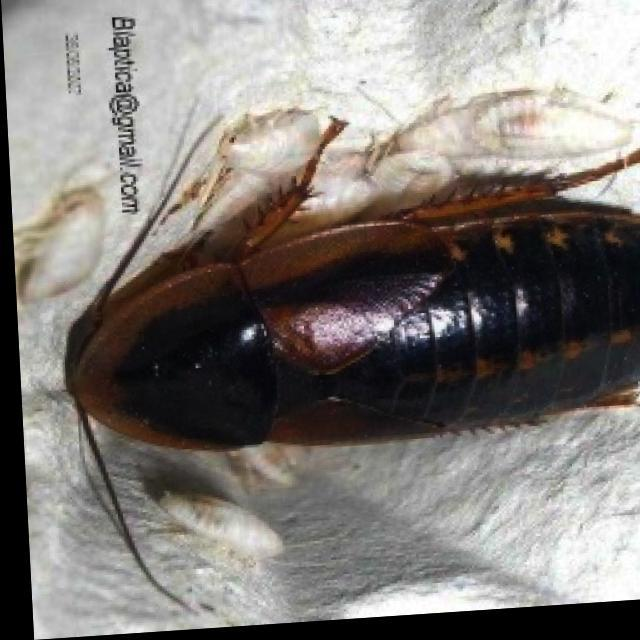cockroach: (54, 79, 638, 613)
